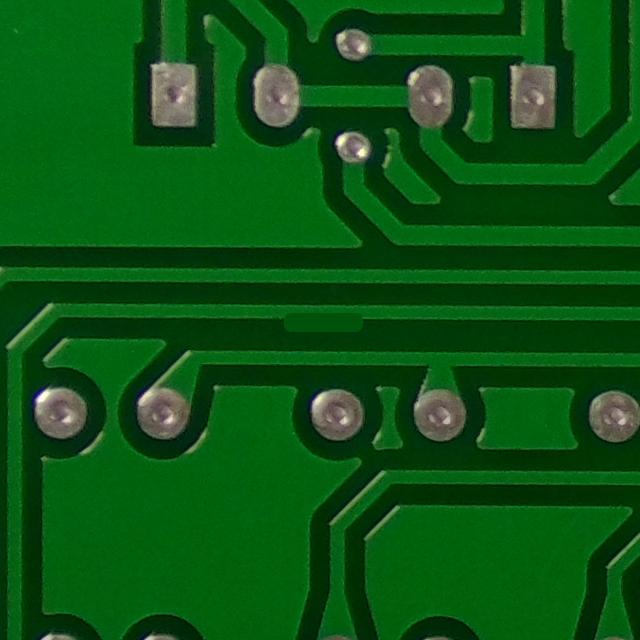spur: (257, 293, 383, 347)
